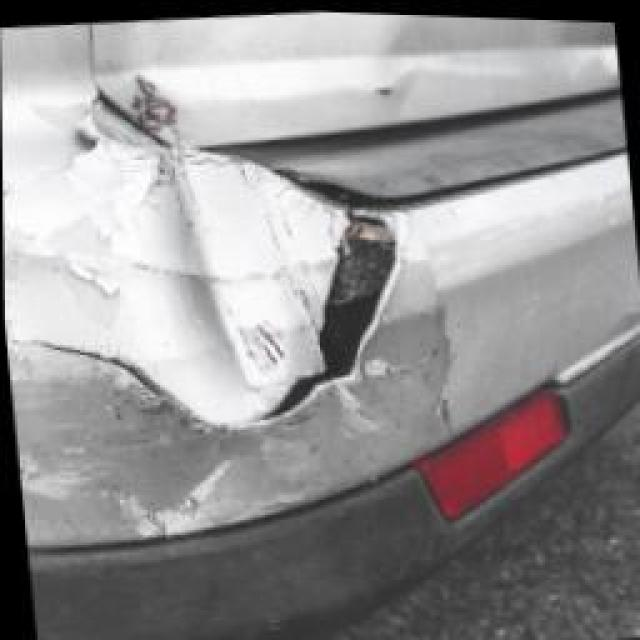Bumper: (0, 82, 460, 553)
